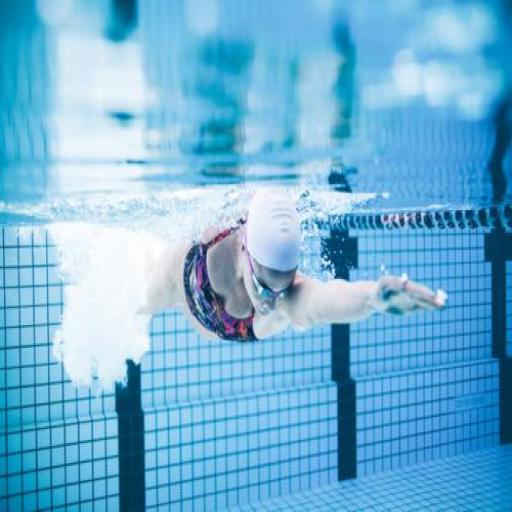swimming: (44, 182, 449, 392)
